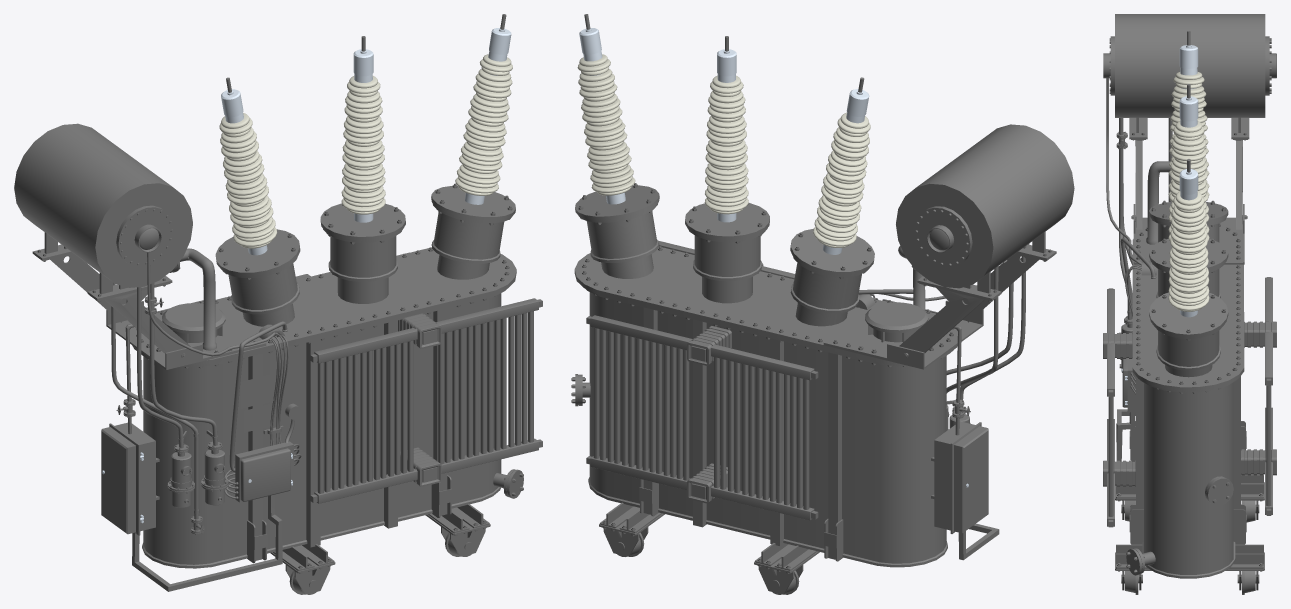
File: transformator.FBX
3 views of the same model, side by side, from view 1: azimuth 30°, elevation 25°; view 2: azimuth 150°, elevation 25°; view 3: azimuth 270°, elevation 25° (orthographic). The views are drawn at different scales.
Visible parts, largest first — view 1: TRANSFORMATOR01; view 2: TRANSFORMATOR01; view 3: TRANSFORMATOR01.
Boxes of the visible parts, bbox=[...] form: TRANSFORMATOR01: bbox=[14, 14, 542, 594]; TRANSFORMATOR01: bbox=[571, 14, 1074, 594]; TRANSFORMATOR01: bbox=[1103, 14, 1276, 594].
Bounding box in the file's own units: 138 × 149 × 49.12.
